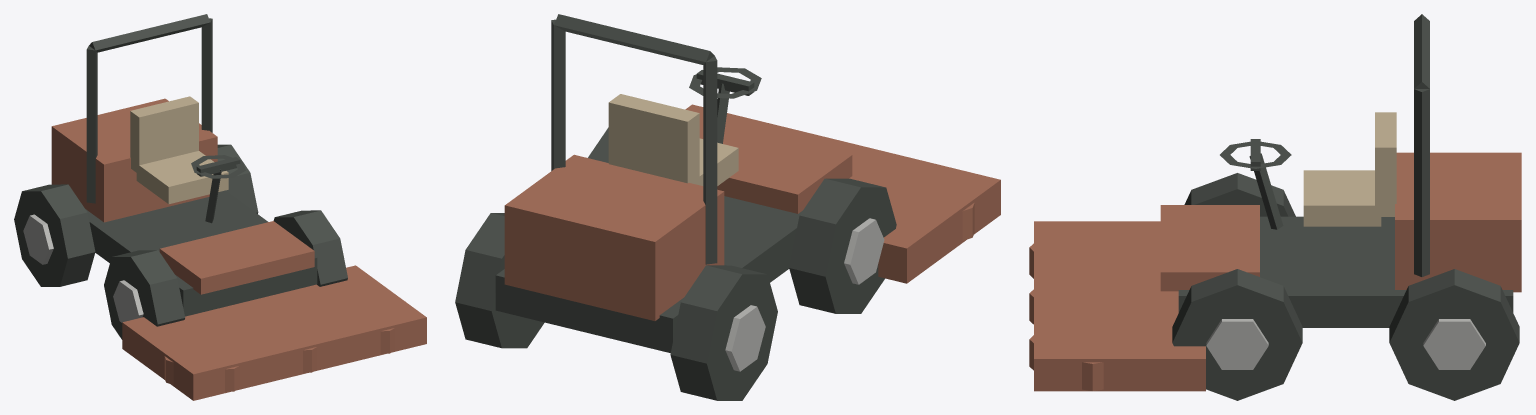
Rendered from rough_mower_01.glb.
The picture shows the model from 3 angles, left to right: view 1: azimuth 30°, elevation 25°; view 2: azimuth 150°, elevation 25°; view 3: azimuth 270°, elevation 25°; orthographic projection. The views are drawn at different scales.
Visible parts, largest first — view 1: Rough_mower_01; view 2: Rough_mower_01; view 3: Rough_mower_01.
Part boxes in pixels (x1,y1,x2,y2): Rough_mower_01: (14, 14, 426, 400); Rough_mower_01: (455, 14, 1000, 400); Rough_mower_01: (1029, 14, 1521, 400).
Size of the model in its own units: 1.91 by 1.87 by 2.81.
